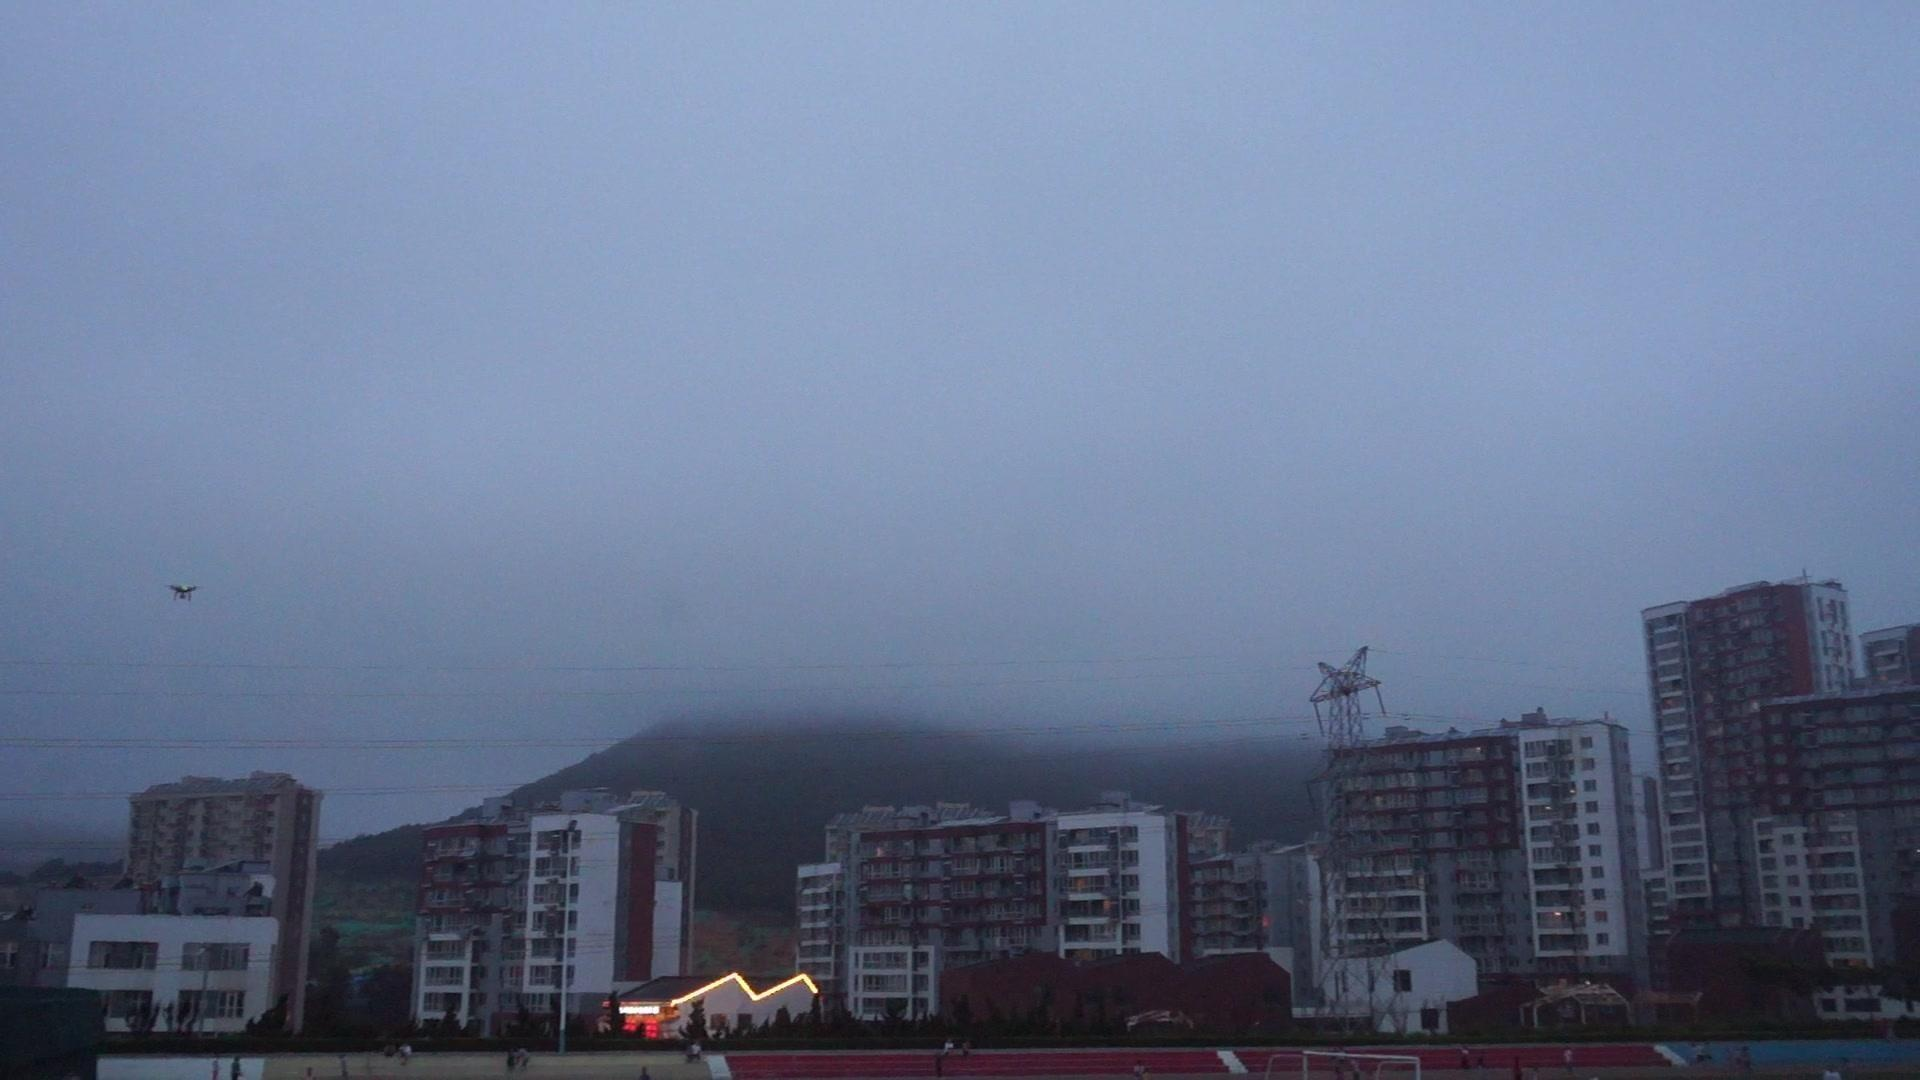UAV: (165, 585, 200, 603)
